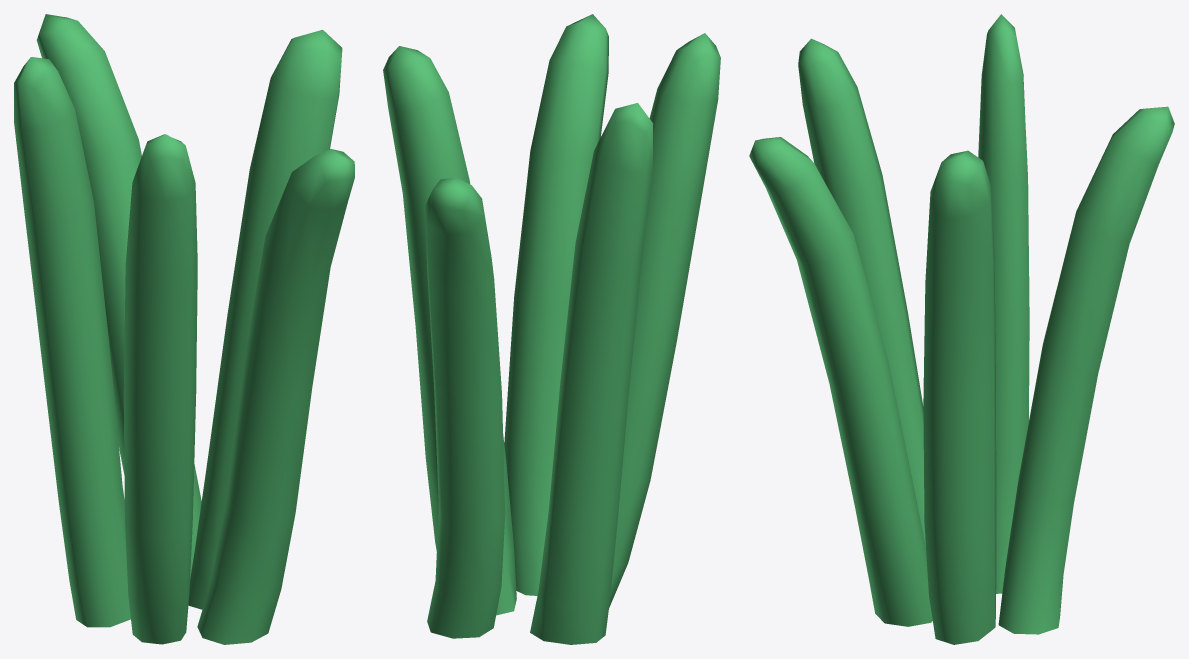
File: Grass_B_05.fbx
The picture shows the model from 3 angles, left to right: view 1: azimuth 30°, elevation 25°; view 2: azimuth 150°, elevation 25°; view 3: azimuth 270°, elevation 25°; orthographic projection. The views are drawn at different scales.
Parts seen in each view (by area): view 1: Grass_B_05_LOD0; view 2: Grass_B_05_LOD0; view 3: Grass_B_05_LOD0.
Part boxes in pixels (bbox=[...]): Grass_B_05_LOD0: bbox=[14, 14, 354, 644]; Grass_B_05_LOD0: bbox=[383, 14, 720, 644]; Grass_B_05_LOD0: bbox=[749, 14, 1174, 644].
Size of what is drawn, in the model's own units: 297 by 543 by 395.
